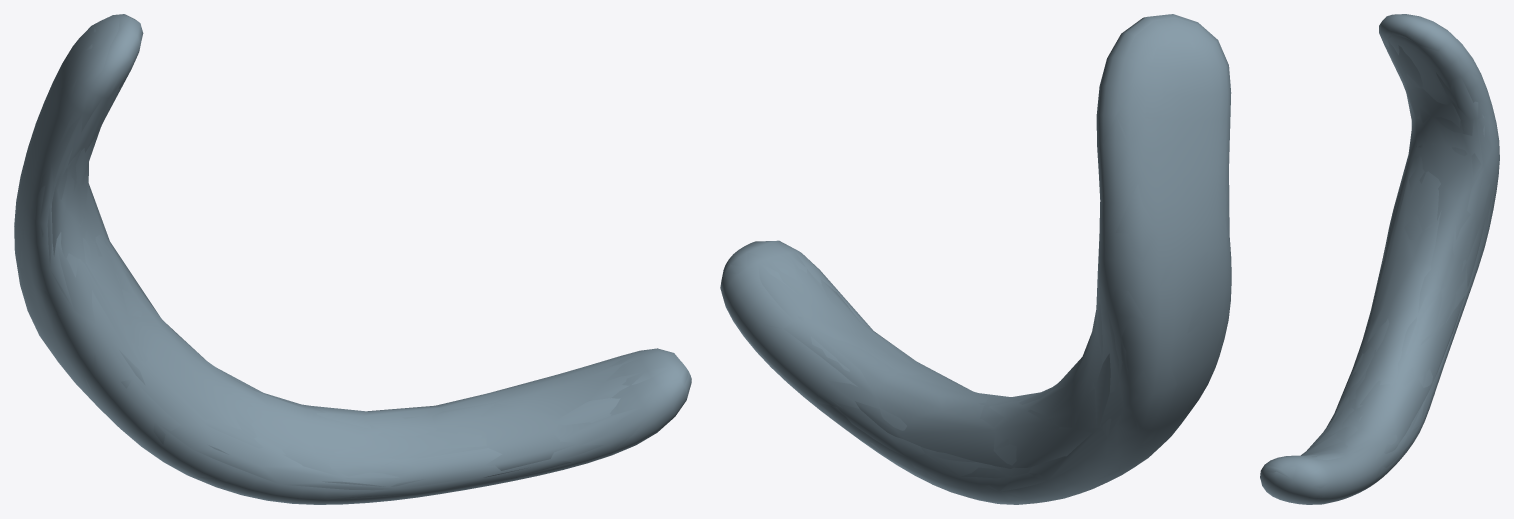
3 views of the same model, side by side, from view 1: azimuth 30°, elevation 25°; view 2: azimuth 150°, elevation 25°; view 3: azimuth 270°, elevation 25° (orthographic). The views are drawn at different scales.
Visible parts, largest first — view 1: CC R03, CC R03 high, CC R03 low; view 2: CC R03 high, CC R03, CC R03 low; view 3: CC R03, CC R03 low, CC R03 high.
Boxes of the visible parts, x1=… form: CC R03: x1=16, y1=14, x2=688, y2=504; CC R03 high: x1=14, y1=15, x2=691, y2=504; CC R03 low: x1=51, y1=123, x2=620, y2=486; CC R03 high: x1=720, y1=15, x2=1231, y2=504; CC R03: x1=720, y1=14, x2=1230, y2=504; CC R03 low: x1=797, y1=279, x2=1110, y2=468; CC R03: x1=1260, y1=14, x2=1499, y2=504; CC R03 low: x1=1301, y1=66, x2=1485, y2=455; CC R03 high: x1=1260, y1=14, x2=1499, y2=504.
Size of the model in its own units: 6.95 by 6.01 by 3.56.
